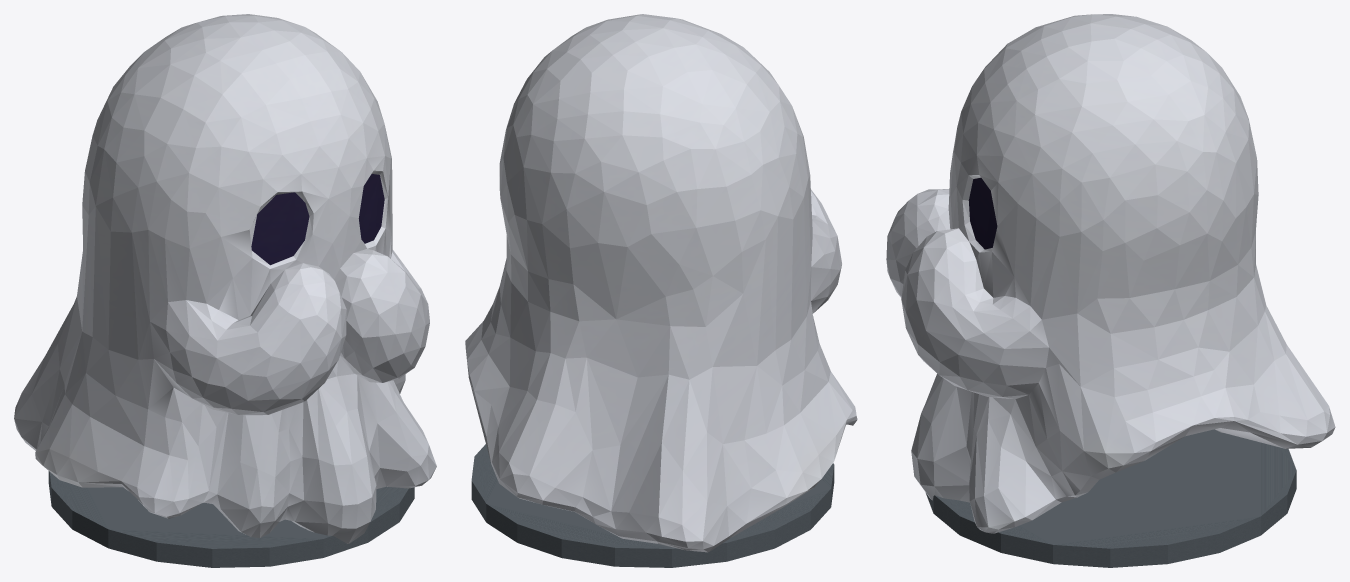
File: EVHalloween_Decor_GhostYardFigure.fbx
The picture shows the model from 3 angles, left to right: view 1: azimuth 30°, elevation 25°; view 2: azimuth 150°, elevation 25°; view 3: azimuth 270°, elevation 25°; orthographic projection. The views are drawn at different scales.
Visible parts, largest first — view 1: EVHalloween_Decor_GhostYardFigure; view 2: EVHalloween_Decor_GhostYardFigure; view 3: EVHalloween_Decor_GhostYardFigure.
Boxes of the visible parts, x1,y1,x2,y2 form: EVHalloween_Decor_GhostYardFigure: (14,14,436,567); EVHalloween_Decor_GhostYardFigure: (465,14,857,567); EVHalloween_Decor_GhostYardFigure: (886,14,1335,567).
Size of the model in its own units: 45.39 by 58.05 by 50.69.
